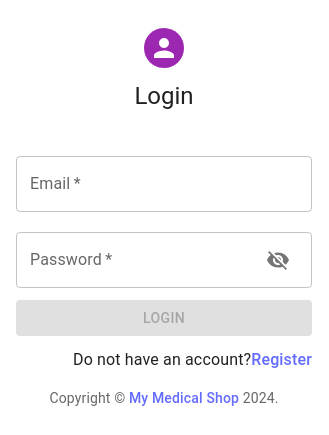
Test: Login › Button must be disabled when only email exists and appropriate required error message must be shown
The width and height of the screenshot is (329, 435).
Type "kalaivani@gmail.com" into the field with test id "login-email" at x=164, y=184, box [16,156,312,212]
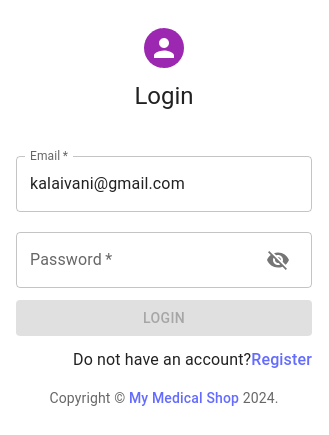
Leave the password field with test id "login-password", box [16,232,250,288]
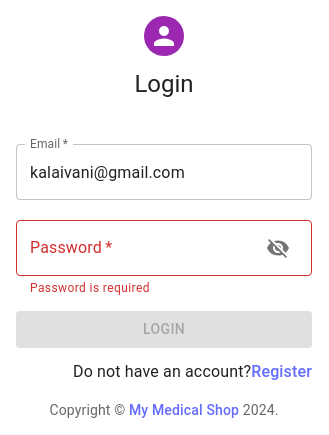
Expected: the button "Login" is disabled, [16,311,312,348]
Result: the text "Password is required" is shown at [30,281,150,295]
